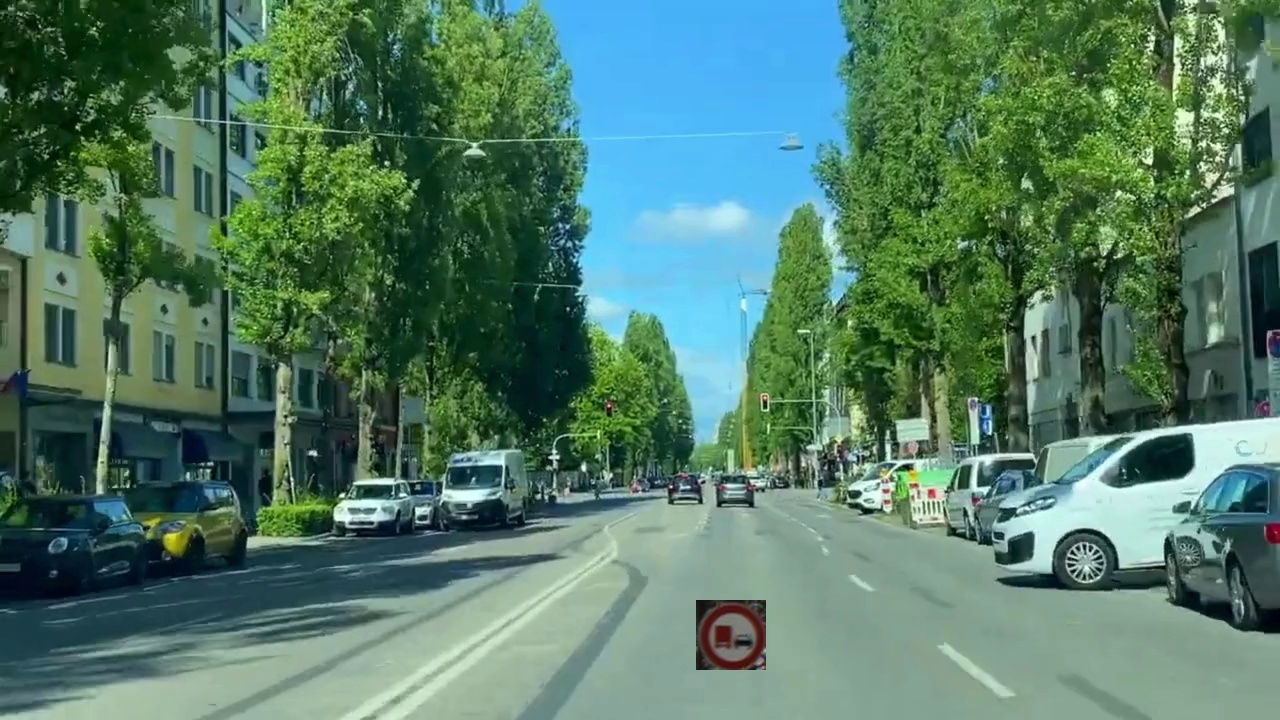No pass >3.5t: (696, 600, 766, 670)
